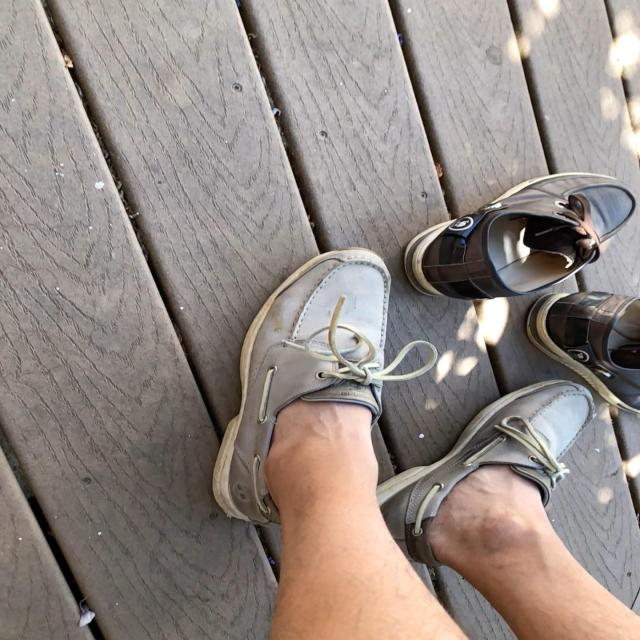shoe: (379, 381, 593, 625), (212, 249, 391, 532)
